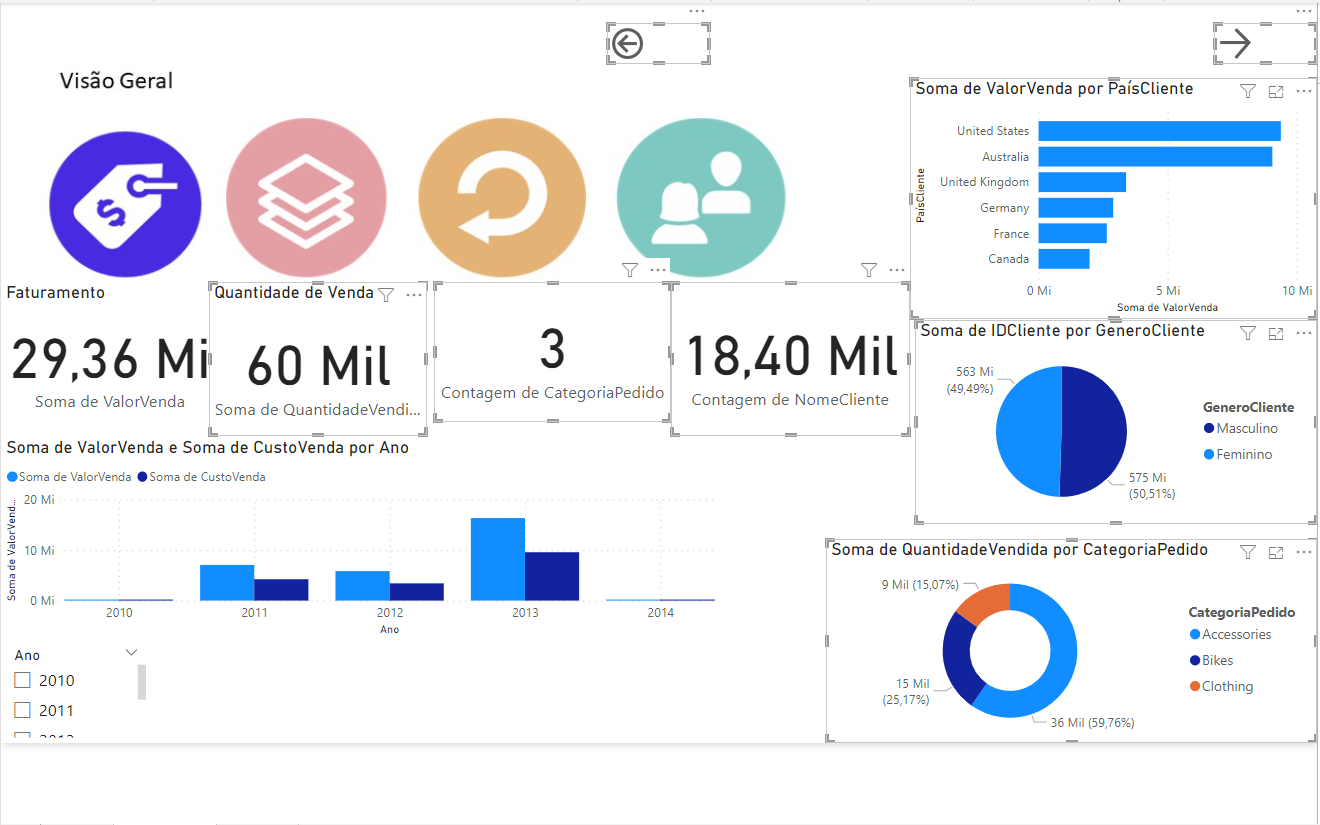

What the dashboard file says about the page in this screenshot:
{"tool":"powerbi","page":{"name":"Visão Geral","canvas":[1280,720],"ordinal":1},"visuals":[{"type":"actionButton","box":[589.4,19.5,100.2,39.9],"z":0},{"type":"actionButton","box":[1179.8,19.5,100.2,39.9],"z":1000},{"type":"card","title":"Faturamento","fields":{"Values":["vw_AnaliseVendas - vw_AnaliseVendas.ValorVenda"]},"box":[0,271.4,212,136.2],"z":2000},{"type":"card","title":"Quantidade de Vendas","fields":{"Values":["vw_AnaliseVendas - vw_AnaliseVendas.QuantidadeVendida"]},"box":[202.3,271.4,212,149.8],"z":3000},{"type":"card","fields":{"Values":["vw_AnaliseVendas - vw_AnaliseVendas.CategoriaPedido"]},"box":[421.2,271.4,230.5,136.2],"z":4000},{"type":"card","fields":{"Values":["vw_AnaliseVendas - vw_AnaliseVendas.NomeCliente"]},"box":[651.7,271.4,232.5,149.8],"z":5000},{"type":"barChart","fields":{"Category":["vw_AnaliseVendas - vw_AnaliseVendas.PaísCliente"],"Y":["vw_AnaliseVendas - vw_AnaliseVendas.ValorVenda"]},"box":[884.1,72.9,395.9,234.4],"z":6000},{"type":"lineClusteredColumnComboChart","fields":{"Category":["vw_AnaliseVendas - vw_AnaliseVendas.DataPedido.Variation.Hierarquia de datas.Ano","vw_AnaliseVendas - vw_AnaliseVendas.DataPedido.Variation.Hierarquia de datas.Trimestre","vw_AnaliseVendas - vw_AnaliseVendas.DataPedido.Variation.Hierarquia de datas.Mês","vw_AnaliseVendas - vw_AnaliseVendas.DataPedido.Variation.Hierarquia de datas.Dia"],"Y":["vw_AnaliseVendas - vw_AnaliseVendas.ValorVenda","vw_AnaliseVendas - vw_AnaliseVendas.CustoVenda"]},"box":[0,422.1,699.3,198.4],"z":7000},{"type":"pieChart","fields":{"Category":["vw_AnaliseVendas - vw_AnaliseVendas.GeneroCliente"],"Y":["vw_AnaliseVendas - vw_AnaliseVendas.IDCliente"]},"box":[889,308.3,391,198.4],"z":8000},{"type":"donutChart","fields":{"Category":["vw_AnaliseVendas - vw_AnaliseVendas.CategoriaPedido"],"Y":["vw_AnaliseVendas - vw_AnaliseVendas.QuantidadeVendida"]},"box":[802.4,521.3,477.6,198.4],"z":9000},{"type":"slicer","fields":{"Values":["vw_AnaliseVendas - vw_AnaliseVendas.GeneroCliente"]},"box":[738.2,0,145.9,99.2],"z":10000}]}

Visuals, with their boxes on the page's 1280x720 design canvas (x1, y1, x2, y2). These are canvas units, not pixel positions in the 1320x825 screenshot, which may show the page scaled, cropped or inside an application window:
actionButton: 589:20:690:59
actionButton: 1180:20:1280:59
"Faturamento" card: 0:271:212:408
"Quantidade de Vendas" card: 202:271:414:421
card - vw_AnaliseVendas - vw_AnaliseVendas.CategoriaPedido: 421:271:652:408
card - vw_AnaliseVendas - vw_AnaliseVendas.NomeCliente: 652:271:884:421
barChart - vw_AnaliseVendas - vw_AnaliseVendas.PaísCliente x vw_AnaliseVendas - vw_AnaliseVendas.ValorVenda: 884:73:1280:307
lineClusteredColumnComboChart - vw_AnaliseVendas - vw_AnaliseVendas.DataPedido.Variation.Hierarquia de datas.Ano x vw_AnaliseVendas - vw_AnaliseVendas.DataPedido.Variation.Hierarquia de datas.Trimestre: 0:422:699:620
pieChart - vw_AnaliseVendas - vw_AnaliseVendas.GeneroCliente x vw_AnaliseVendas - vw_AnaliseVendas.IDCliente: 889:308:1280:507
donutChart - vw_AnaliseVendas - vw_AnaliseVendas.CategoriaPedido x vw_AnaliseVendas - vw_AnaliseVendas.QuantidadeVendida: 802:521:1280:720
slicer - vw_AnaliseVendas - vw_AnaliseVendas.GeneroCliente: 738:0:884:99
